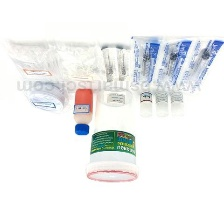insecticide: (69, 84, 96, 138)
plastic_box: (82, 84, 143, 185)
